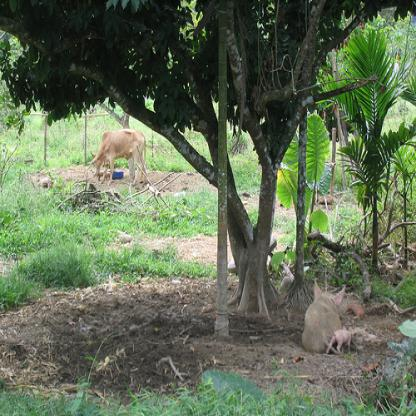cow: (87, 128, 147, 185)
